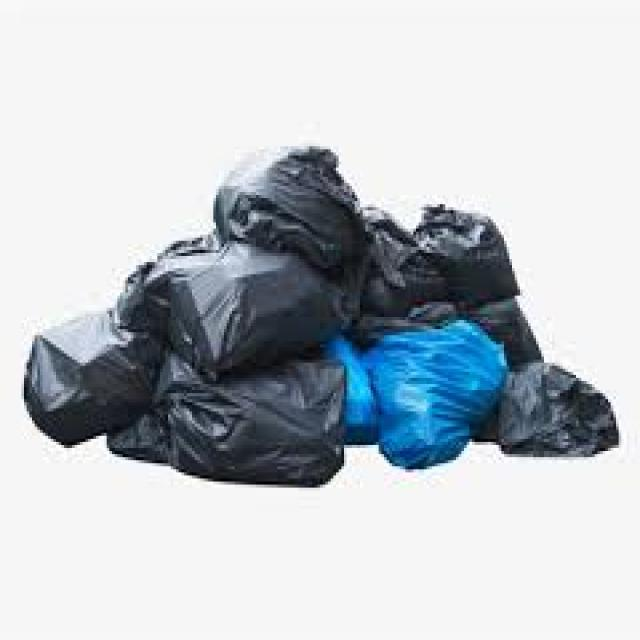plastic_bag: (128, 250, 318, 348), (220, 150, 358, 251), (28, 321, 150, 431), (410, 202, 519, 291)
